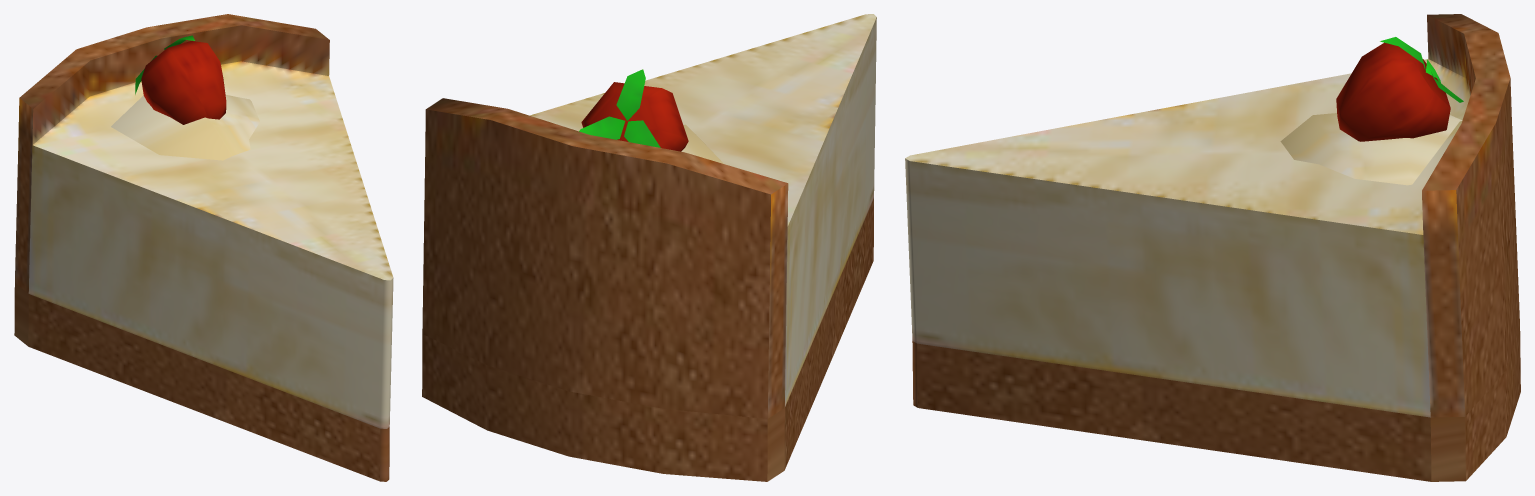
Rendered from SapphCheesecakeSlice_Ground.fbx.
3 views of the same model, side by side, from view 1: azimuth 30°, elevation 25°; view 2: azimuth 150°, elevation 25°; view 3: azimuth 270°, elevation 25° (orthographic). The views are drawn at different scales.
Visible parts, largest first — view 1: CheesecakeSlice; view 2: CheesecakeSlice; view 3: CheesecakeSlice.
Part boxes in pixels (left/top/right/bottom): CheesecakeSlice: left=14, top=14, right=393, bottom=481; CheesecakeSlice: left=422, top=14, right=876, bottom=481; CheesecakeSlice: left=905, top=14, right=1520, bottom=481.
Size of the model in its own units: 12.66 by 12.28 by 18.81.
